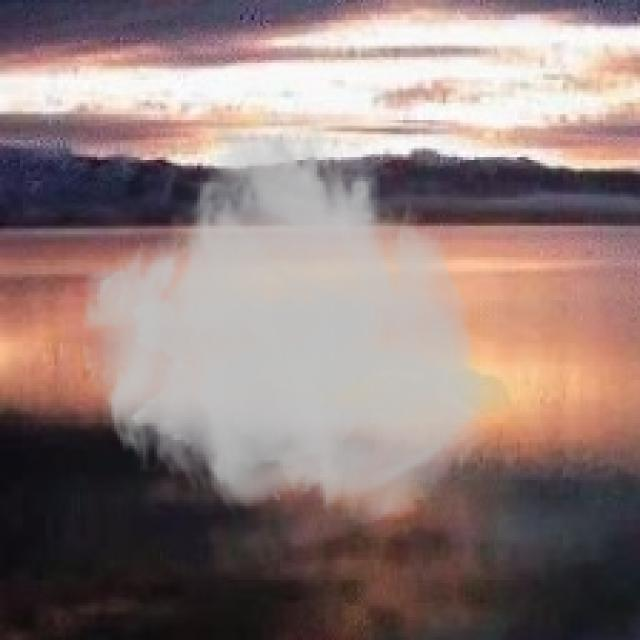smoke: (77, 106, 492, 528)
